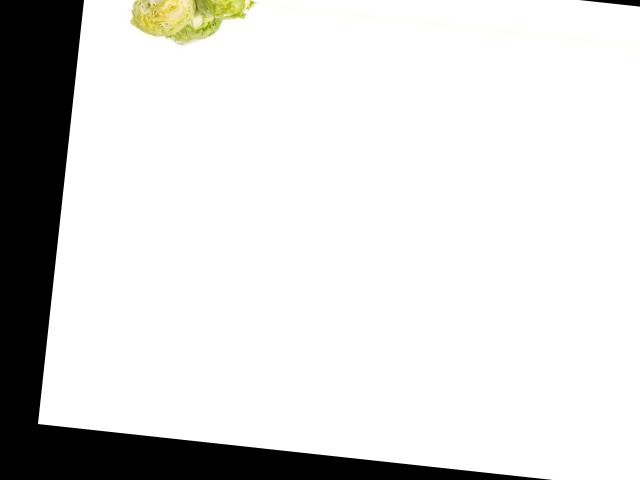lettuce: (158, 1, 229, 51)
